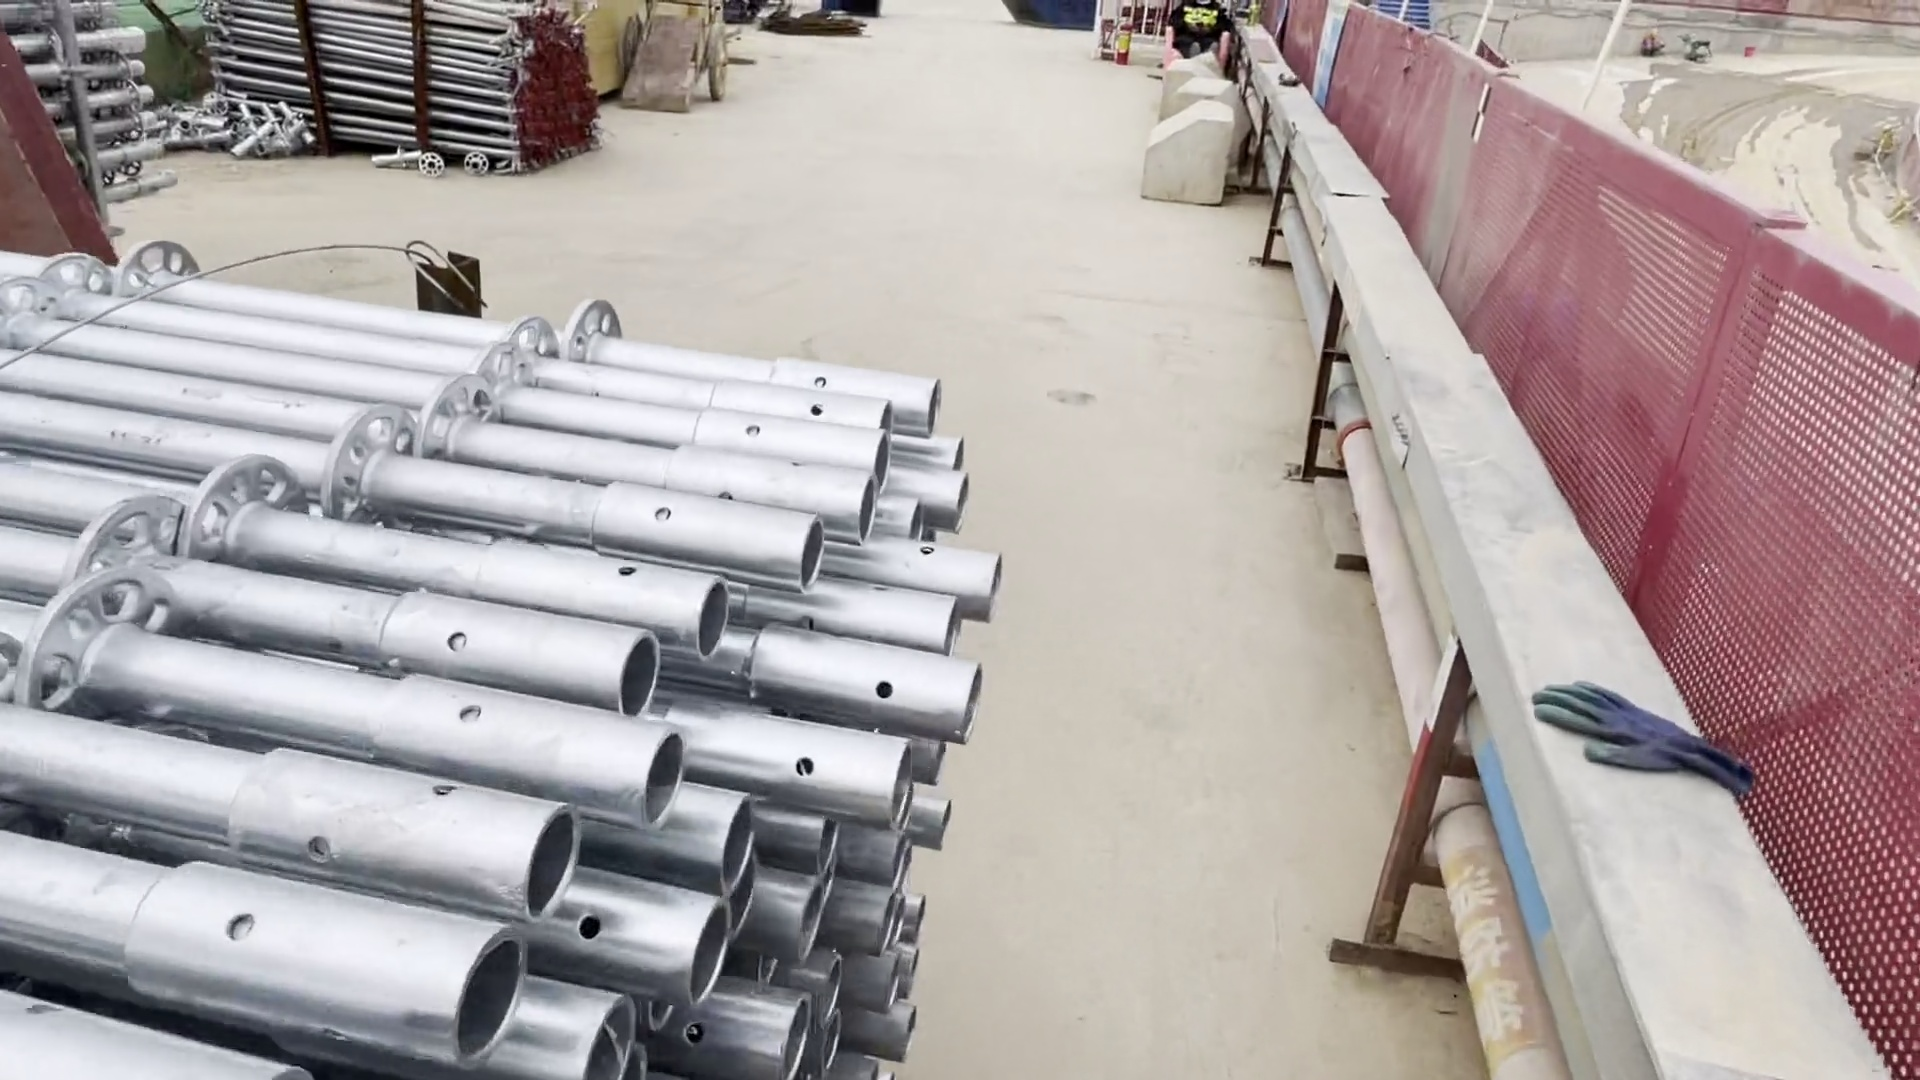fence: (1622, 231, 1920, 1072), (1449, 61, 1652, 596), (1357, 22, 1461, 251)
scaffold: (15, 309, 1018, 1080)
